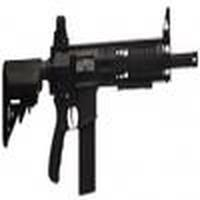gun: (2, 39, 200, 149)
